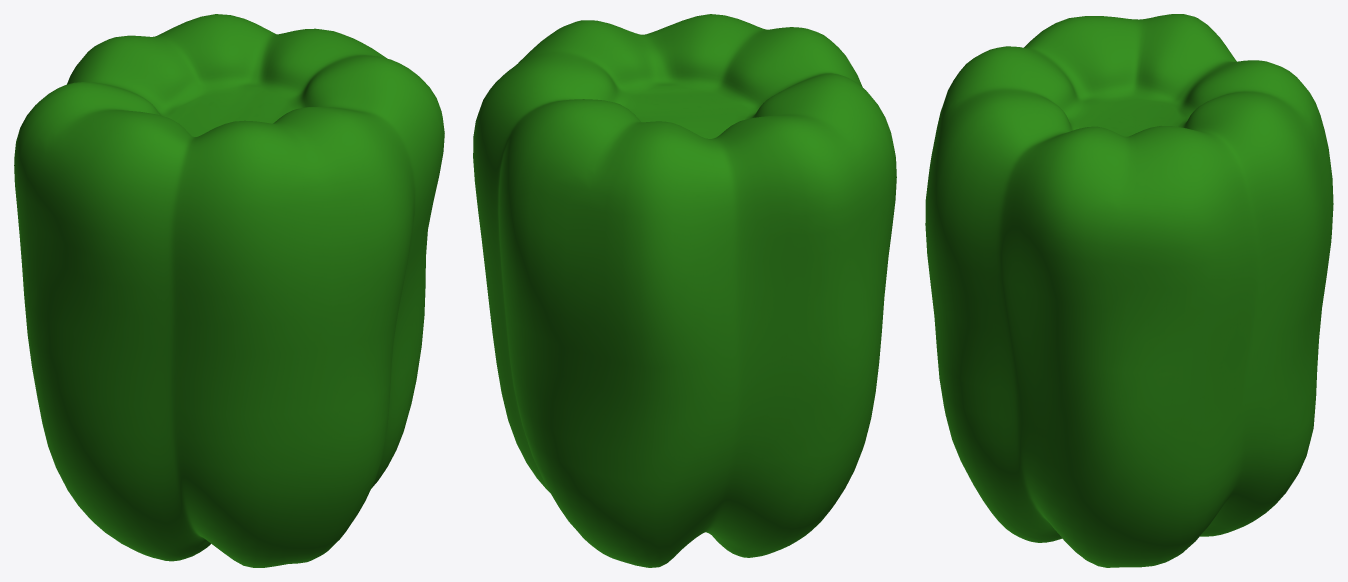
The model's file is pepper.obj.
3 views of the same model, side by side, from view 1: azimuth 30°, elevation 25°; view 2: azimuth 150°, elevation 25°; view 3: azimuth 270°, elevation 25° (orthographic).
Parts seen in each view (by area): view 1: pepper.1; view 2: pepper.1; view 3: pepper.1.
Part boxes in pixels (left/top/right/bottom): pepper.1: left=14, top=14, right=444, bottom=567; pepper.1: left=473, top=14, right=896, bottom=567; pepper.1: left=925, top=14, right=1333, bottom=567.
Bounding box in the file's own units: 9.51 × 11.29 × 9.08.
1 material, 1 textured.
